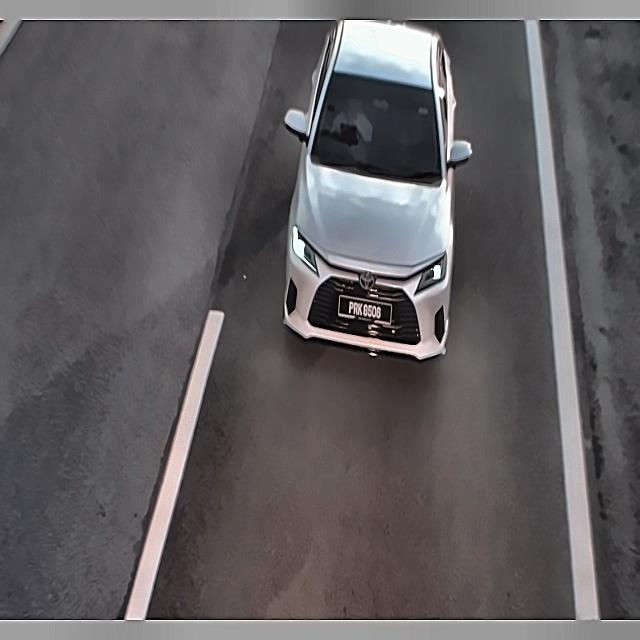car: (329, 292, 392, 332)
